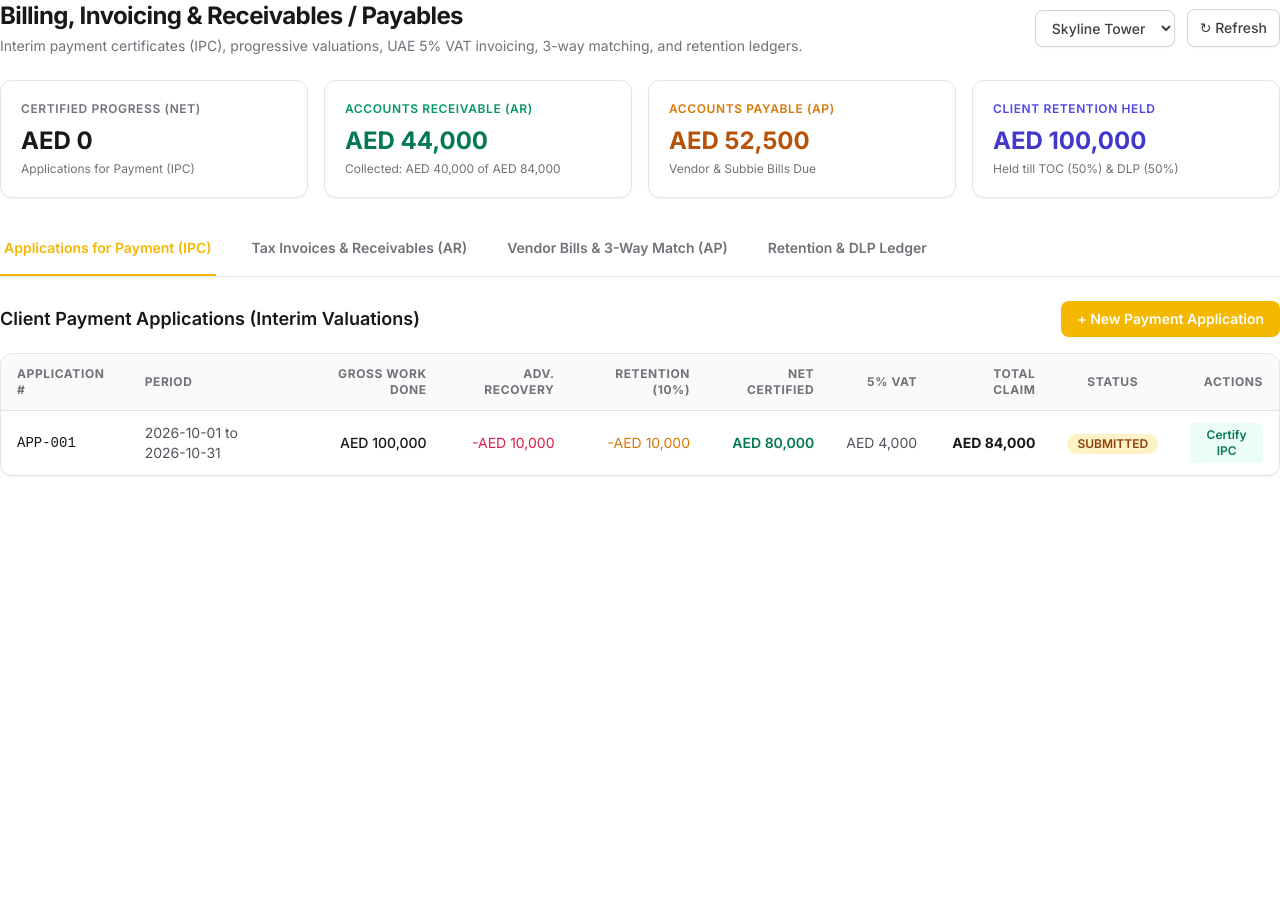
Test: M22: Billing, Invoicing, Receivables & Payables Page › opens '+ New Payment Application' modal
Click the button "+ New Payment Application": point(1171, 319) left=1061, top=301, right=1279, bottom=337
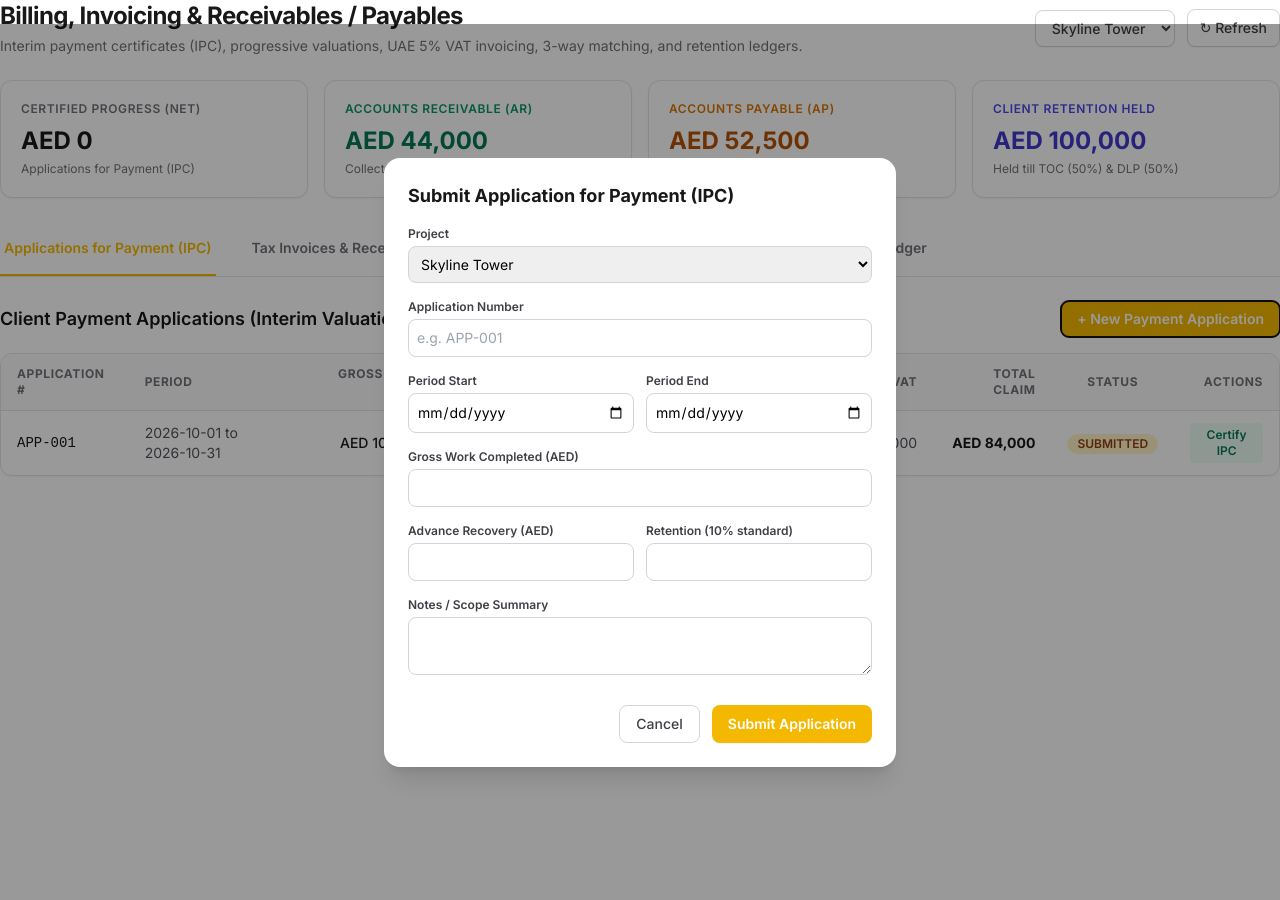
Result: the heading "Submit Application for Payment (IPC)" is shown at left=408, top=184, right=734, bottom=206
Result: the field with placeholder "e.g. APP-001" is shown at left=408, top=318, right=872, bottom=356
